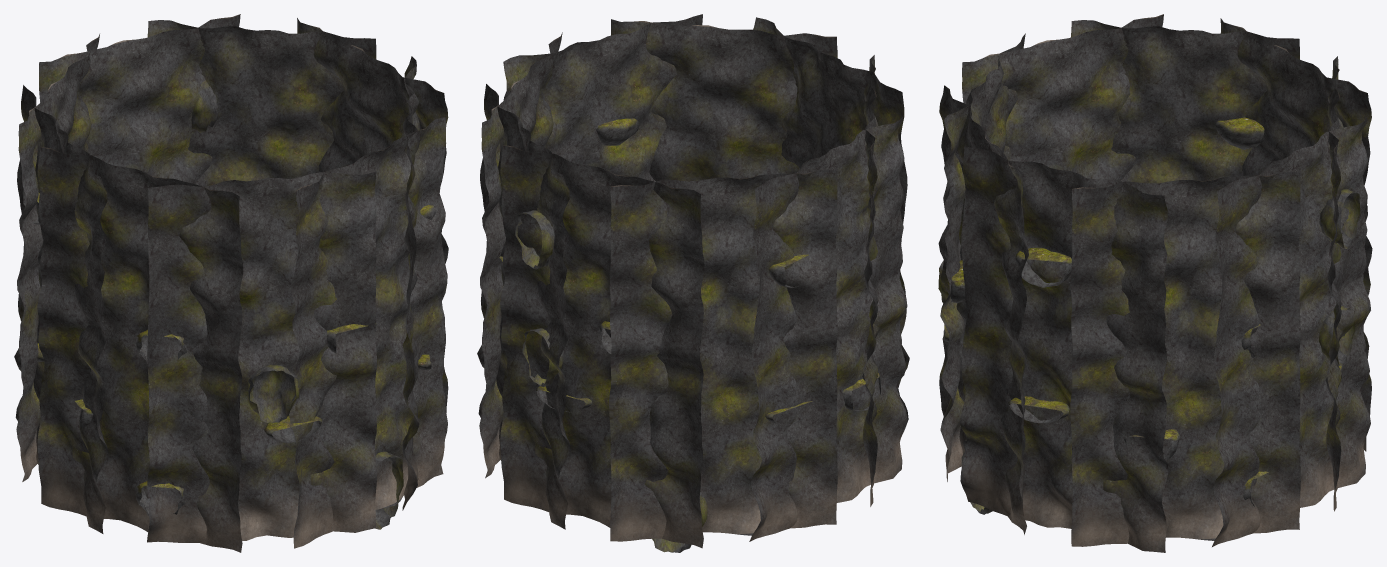
File: walls.FBX
3 views of the same model, side by side, from view 1: azimuth 30°, elevation 25°; view 2: azimuth 150°, elevation 25°; view 3: azimuth 270°, elevation 25° (orthographic).
Visible parts, largest first — view 1: Cylinder006, Cylinder007, Cylinder005, Cylinder002, Cylinder001, Cylinder008, Cylinder003, Cylinder009, Cylinder004, Box019, Box006, Box024 (+1 smaller); view 2: Cylinder009, Cylinder001, Cylinder008, Cylinder005, Cylinder004, Cylinder002, Cylinder006, Cylinder003, Cylinder007, Box006, Box021, Box009 (+1 smaller); view 3: Cylinder003, Cylinder004, Cylinder002, Cylinder008, Cylinder007, Cylinder009, Cylinder005, Cylinder006, Cylinder001, Box006, Box011, Box021 (+2 smaller).
Boxes of the visible parts, x1,y1,x2,y2 form: Cylinder006: (147, 171, 376, 542); Cylinder007: (37, 146, 243, 552); Cylinder005: (289, 117, 447, 548); Cylinder002: (147, 20, 376, 186); Cylinder001: (39, 14, 240, 183); Cylinder008: (14, 85, 108, 533); Cylinder003: (297, 18, 448, 412); Cylinder009: (16, 34, 99, 481); Cylinder004: (402, 56, 420, 510); Box019: (248, 364, 299, 422); Box006: (191, 80, 218, 132); Box024: (375, 451, 403, 529); Cylinder009: (609, 169, 837, 541); Cylinder001: (500, 145, 704, 548); Cylinder008: (749, 115, 907, 541); Cylinder005: (611, 19, 837, 181); Cylinder004: (503, 14, 702, 181); Cylinder002: (477, 84, 570, 529); Cylinder006: (753, 17, 909, 436); Cylinder003: (479, 32, 562, 478); Cylinder007: (862, 55, 879, 506); Box006: (515, 210, 554, 269); Box021: (596, 118, 639, 145); Box009: (522, 328, 564, 386); Cylinder003: (1070, 171, 1300, 546); Cylinder004: (959, 146, 1168, 552); Cylinder002: (1212, 117, 1370, 546); Cylinder008: (1071, 20, 1299, 183); Cylinder007: (962, 14, 1163, 180); Cylinder009: (1220, 18, 1372, 451); Cylinder005: (938, 85, 1028, 534); Cylinder006: (940, 33, 1025, 481); Cylinder001: (1326, 56, 1343, 511); Box006: (1319, 189, 1360, 248); Box011: (1215, 117, 1264, 149); Box021: (1015, 247, 1071, 287).
Bounding box in the file's own units: 165 × 156 × 163.
